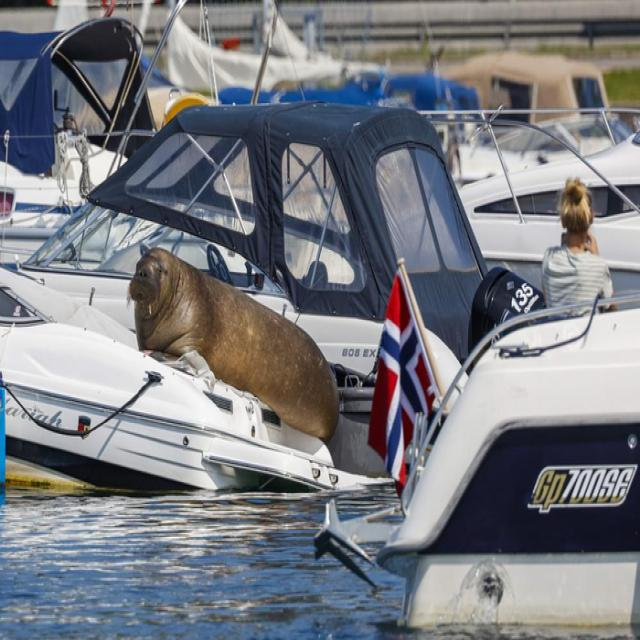walrus: (124, 242, 373, 459)
